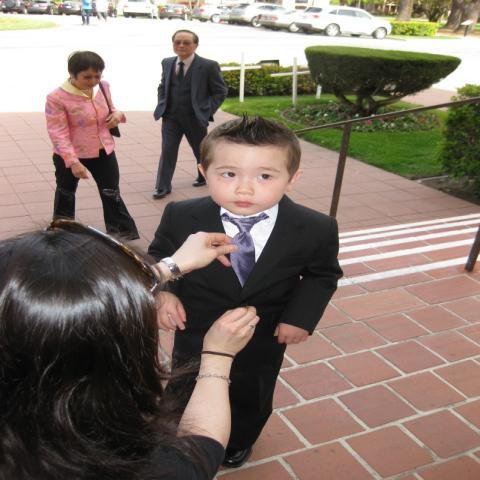car: (295, 5, 392, 39), (228, 2, 296, 28), (192, 5, 247, 26), (259, 8, 303, 33), (122, 1, 157, 20), (159, 4, 192, 21), (0, 0, 34, 15), (90, 1, 117, 17), (27, 0, 54, 14), (58, 2, 82, 15)
